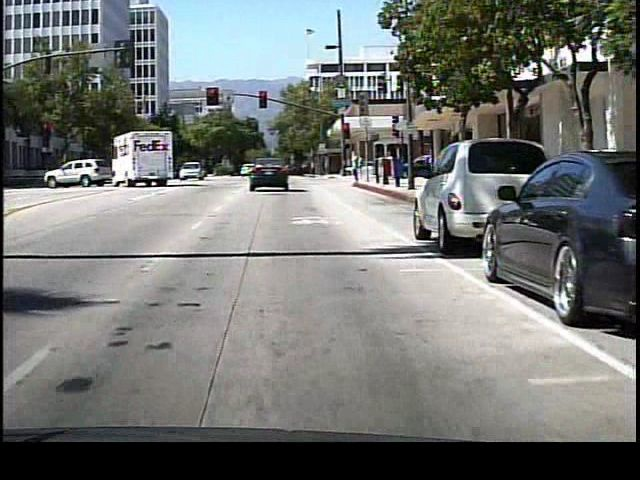person: (346, 149, 365, 189)
